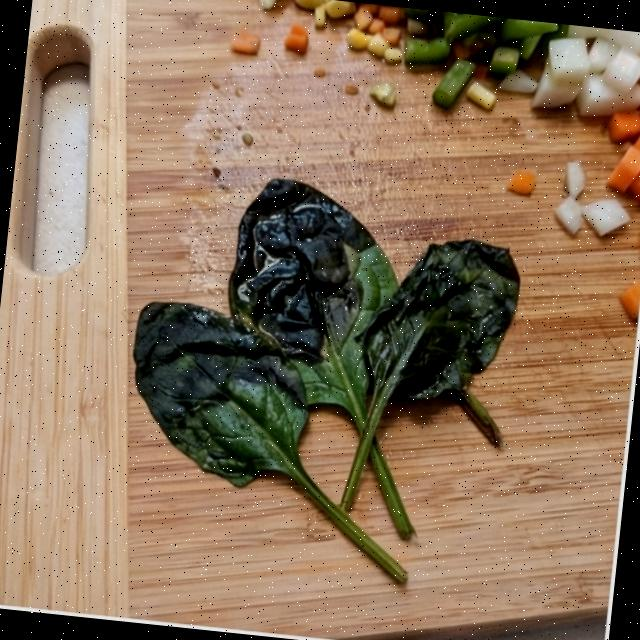rotten spinach: (47, 114, 600, 613)
